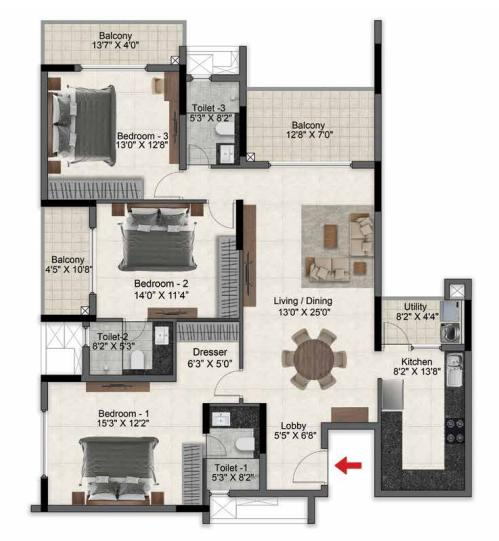Balcony: (245, 90, 377, 163), (40, 21, 186, 70), (44, 206, 92, 321)
Bed: (43, 86, 118, 165), (81, 435, 158, 503), (120, 203, 196, 271)
Bedroom: (46, 380, 208, 506), (42, 66, 186, 197), (97, 207, 241, 318)
Dining Room: (241, 292, 376, 406)
Dining table: (278, 325, 348, 392)
Kitchen: (376, 351, 471, 498)
Living Room: (241, 165, 374, 292)
Sofa: (302, 255, 350, 285), (348, 211, 373, 256)
Wardrobe: (47, 180, 144, 200), (218, 236, 237, 318), (182, 443, 204, 505), (175, 322, 238, 341)
door: (292, 452, 329, 483), (154, 167, 186, 197), (213, 367, 241, 396), (383, 322, 409, 347), (210, 204, 234, 229), (205, 436, 228, 456), (189, 143, 208, 164)
dress: (176, 321, 239, 380)
fridge: (383, 380, 403, 410)
kitchen-slab: (443, 353, 468, 490), (381, 468, 466, 494), (380, 413, 403, 491)
lobby: (265, 406, 328, 490)
sink: (445, 353, 464, 387)
stove: (444, 418, 467, 444)
toilet: (84, 321, 176, 378), (205, 408, 265, 493), (188, 79, 244, 169)
tv: (164, 72, 182, 163), (244, 207, 255, 307), (87, 381, 149, 391)
utility: (377, 296, 466, 348)
washing-machine: (440, 322, 461, 344)
